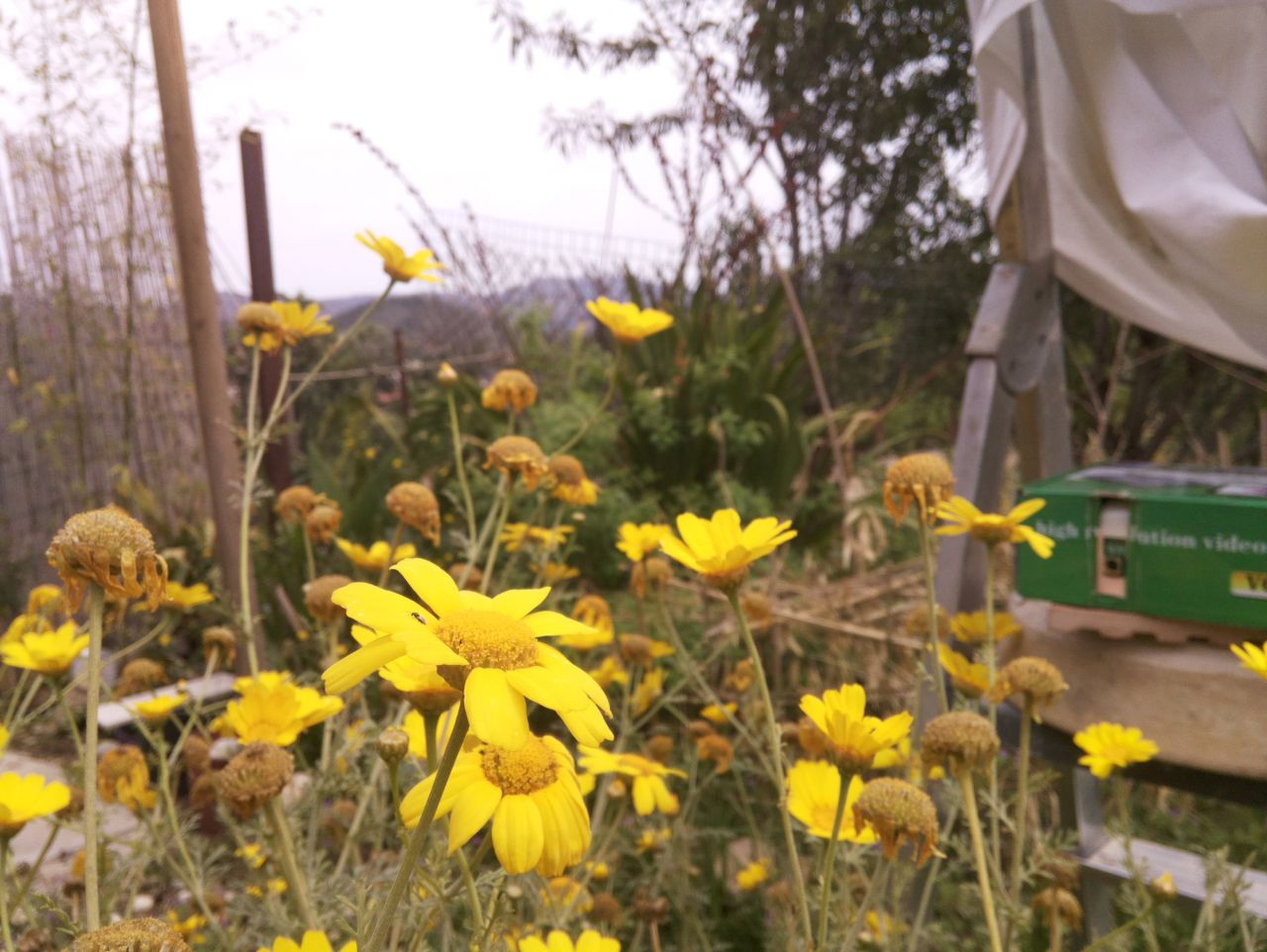Unidentified insect: (401, 603, 441, 633)
